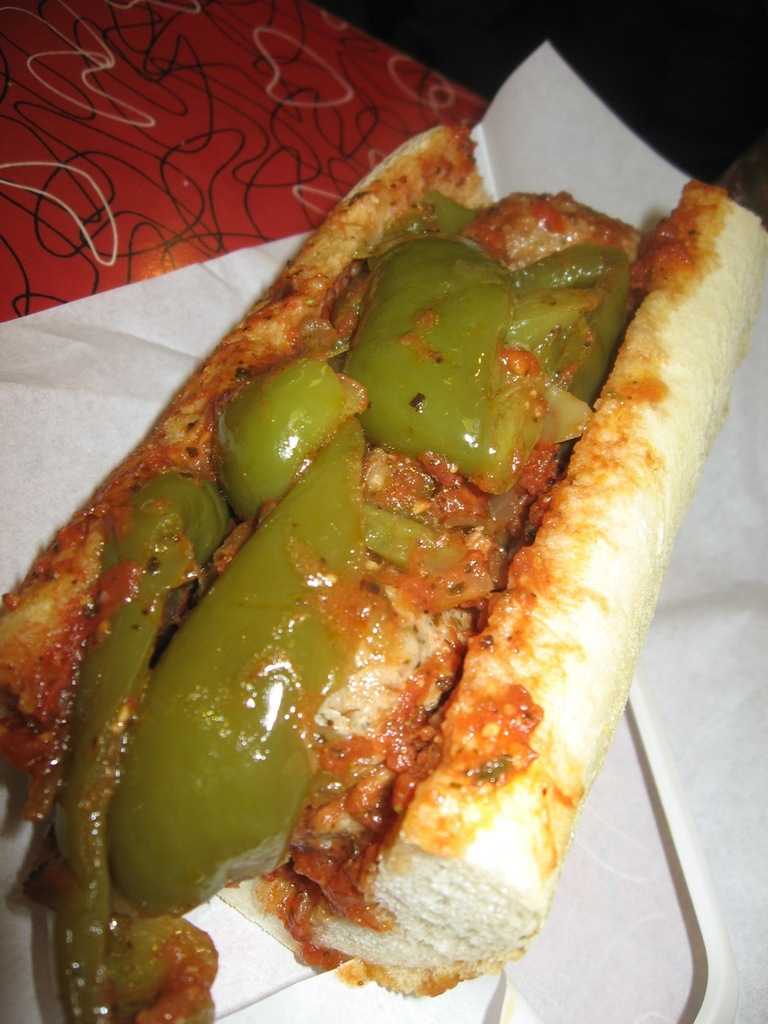sandwich: (0, 125, 767, 1023)
